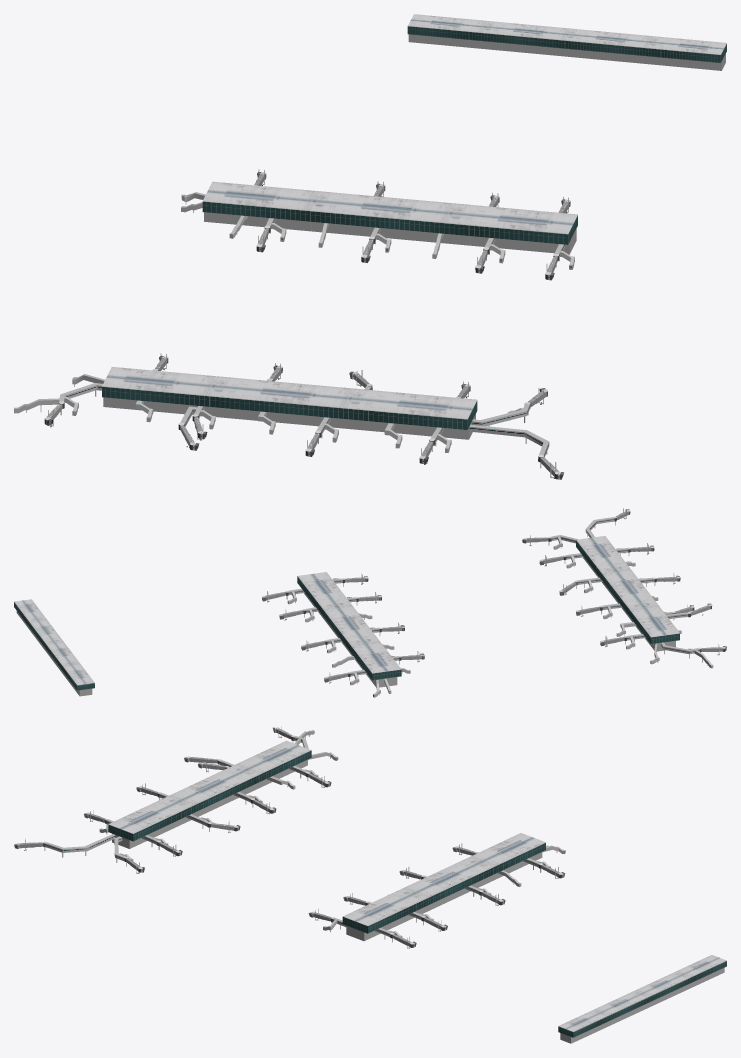
Rendered from Dash8q100 .glb.
The picture shows the model from 3 angles, top to bottom: view 1: azimuth 30°, elevation 25°; view 2: azimuth 150°, elevation 25°; view 3: azimuth 270°, elevation 25°; orthographic projection. The views are drawn at different scales.
Parts seen in each view (by area): view 1: Buffer Object 8 (×3), Buffer Object 9 (×3); view 2: Buffer Object 9 (×3), Buffer Object 8 (×3), Buffer Object 10; view 3: Buffer Object 9 (×3), Buffer Object 8 (×3).
Boxes of the visible parts, left/top/right/bottom form: Buffer Object 8 (×3): left=102, top=26, right=721, bottom=439; Buffer Object 9 (×3): left=102, top=14, right=726, bottom=419; Buffer Object 9 (×3): left=14, top=536, right=679, bottom=685; Buffer Object 8 (×3): left=14, top=540, right=655, bottom=695; Buffer Object 10: left=372, top=669, right=401, bottom=687; Buffer Object 9 (×3): left=108, top=740, right=726, bottom=1031; Buffer Object 8 (×3): left=129, top=750, right=726, bottom=1043.
Bounding box in the file's own units: 686 × 17.52 × 663.
237 materials, 237 textured.
